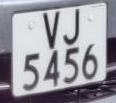4: (41, 47, 64, 92)
5: (19, 48, 45, 97), (61, 45, 82, 89)
6: (80, 41, 102, 86)
J: (61, 6, 84, 50)
V: (38, 9, 64, 52)
